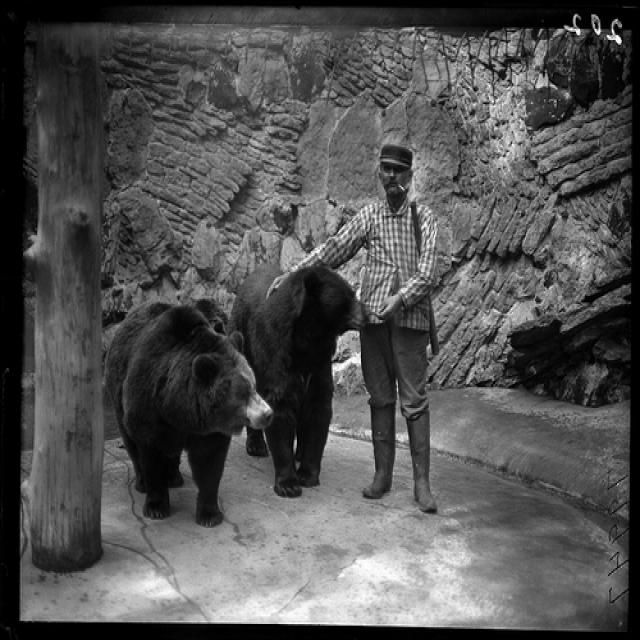Bear: (101, 298, 278, 534), (228, 243, 374, 484)
